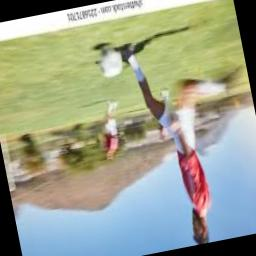football: (96, 42, 126, 80)
